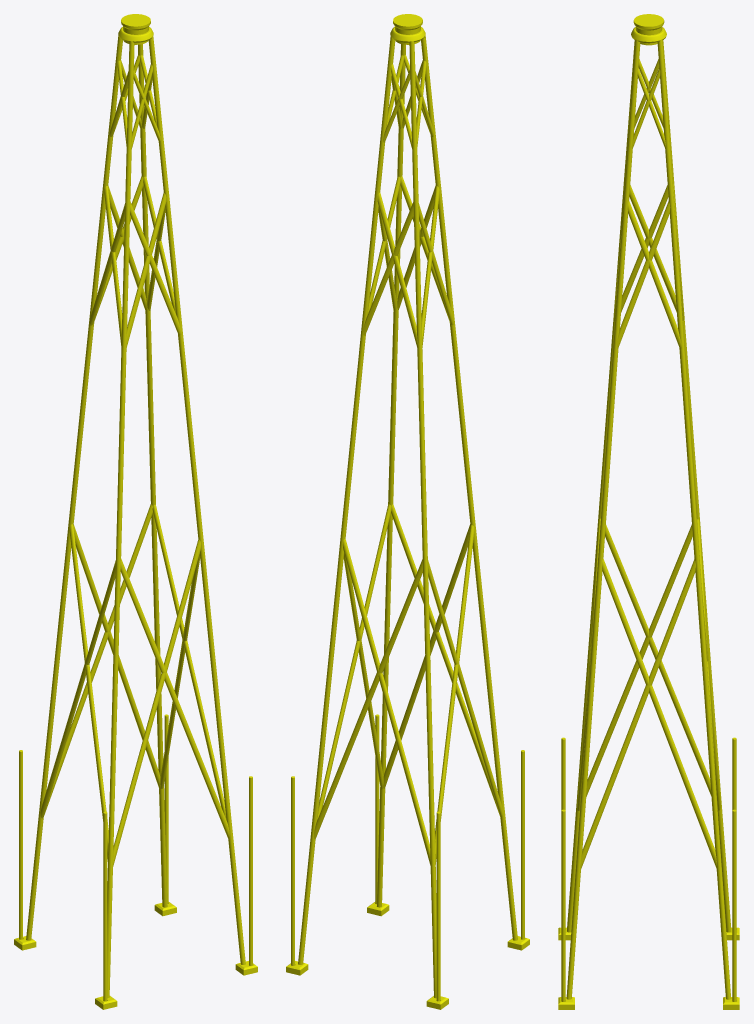
Rendered from foundation_base_jacket_GEO.fbx.
The picture shows the model from 3 angles, left to right: view 1: azimuth 30°, elevation 25°; view 2: azimuth 150°, elevation 25°; view 3: azimuth 270°, elevation 25°; orthographic projection.
Visible parts, largest first — view 1: base_jacket_GEO_001; view 2: base_jacket_GEO_001; view 3: base_jacket_GEO_001.
Boxes of the visible parts, x1,y1,x2,y2 form: base_jacket_GEO_001: [14, 14, 257, 1009]; base_jacket_GEO_001: [286, 14, 529, 1009]; base_jacket_GEO_001: [558, 14, 739, 1009].
Bounding box in the file's own units: 3890 × 22543 × 3888.
